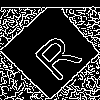R: (26, 25, 84, 83)
